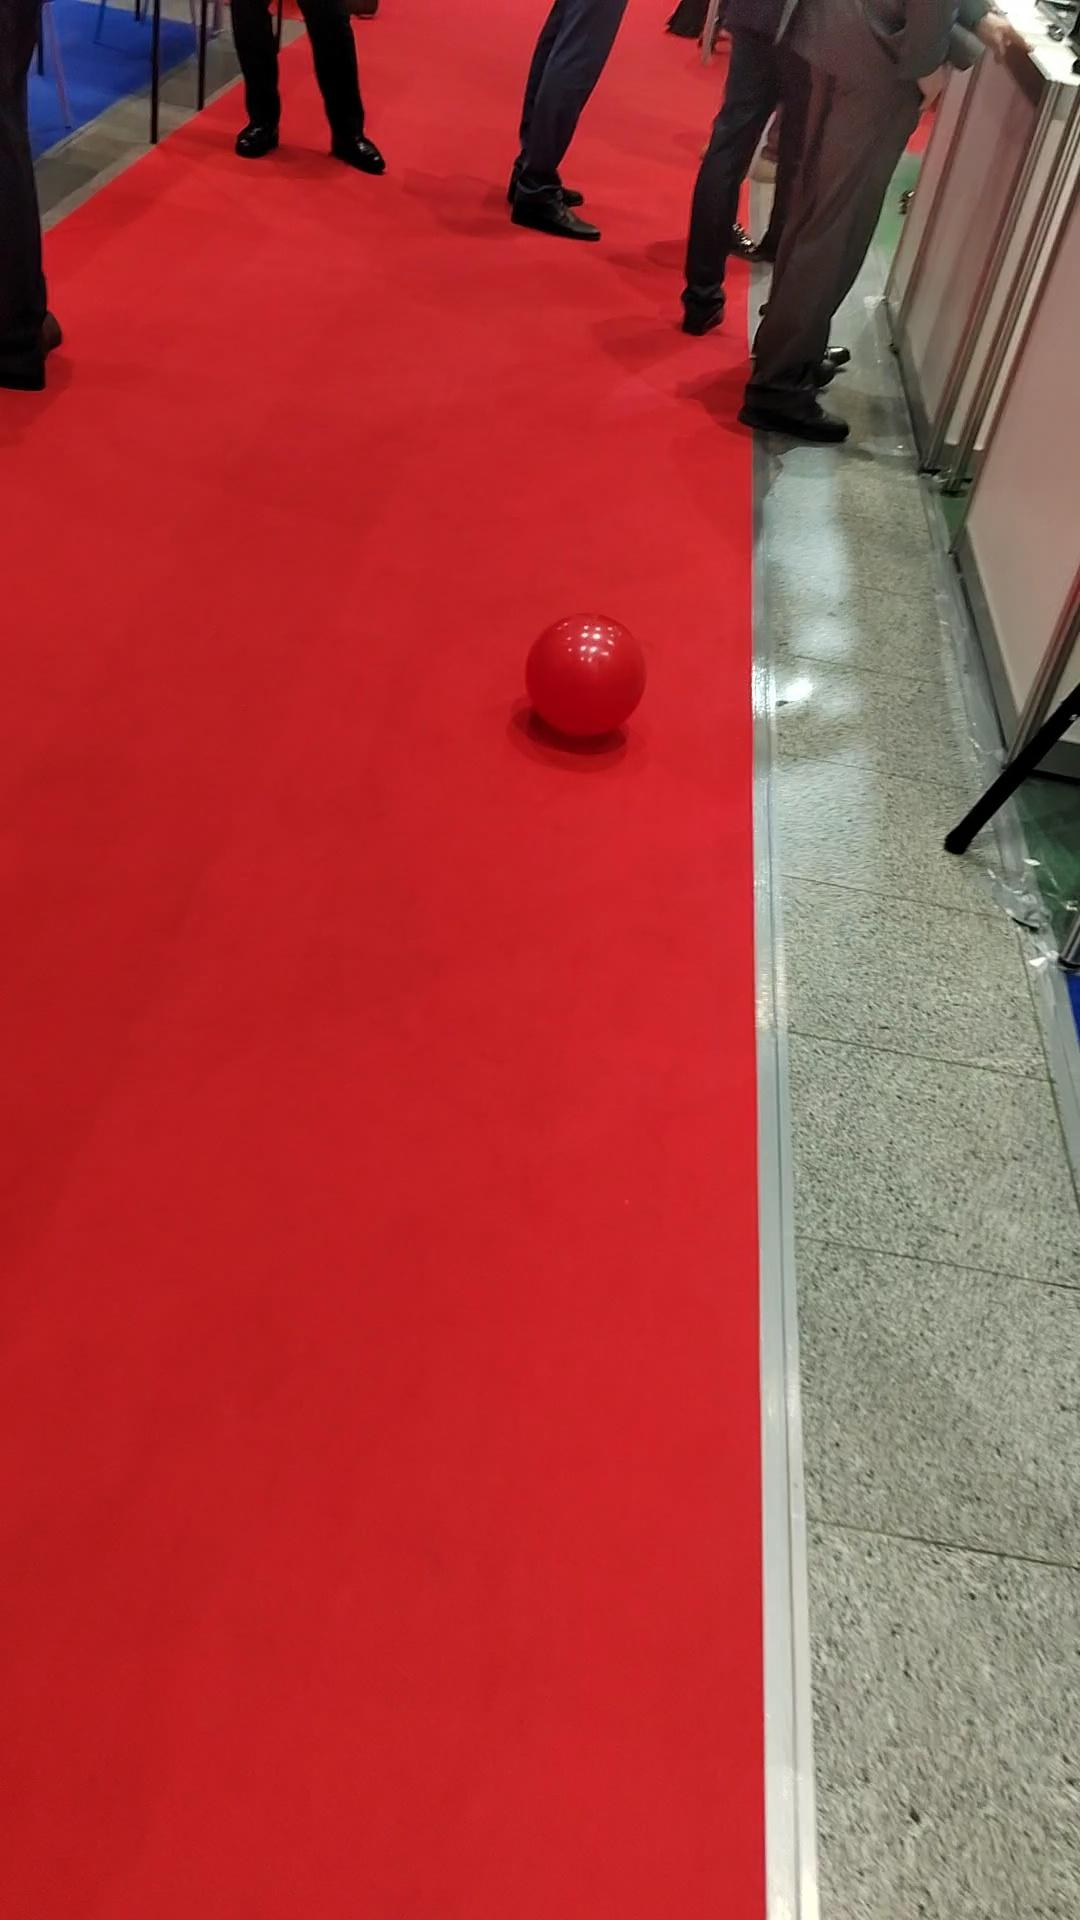red: (523, 615, 646, 740)
